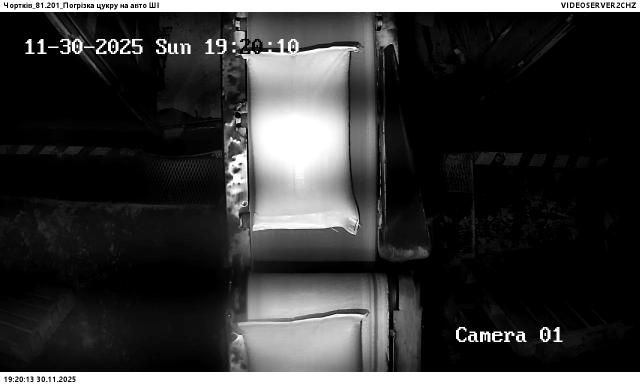bag: (243, 46, 362, 234), (239, 314, 368, 371)
